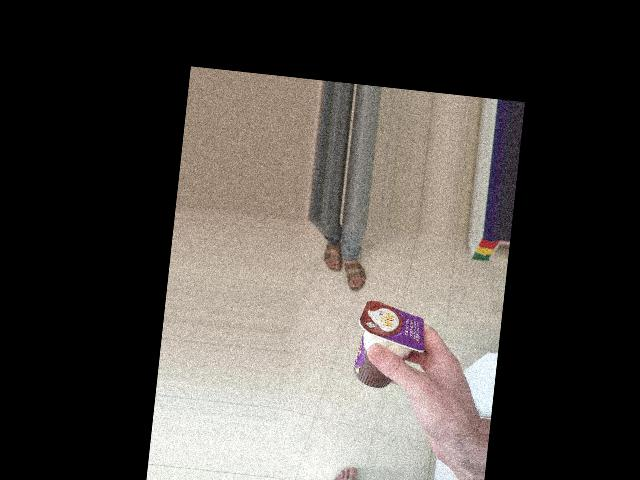milky: (320, 293, 419, 360)
